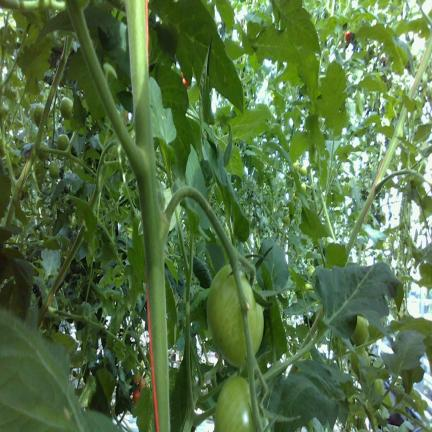6kp_peduncle: (137, 176, 214, 283)
6kp_petiole: (102, 67, 165, 258), (4, 147, 31, 216), (27, 122, 65, 170), (363, 159, 396, 214), (38, 279, 72, 327), (90, 158, 104, 210), (56, 35, 71, 78)
MainStem: (125, 1, 169, 432), (5, 35, 73, 222), (346, 105, 409, 258), (38, 222, 87, 327), (408, 34, 432, 101)
tomato: (207, 265, 263, 365), (215, 376, 253, 431), (350, 347, 370, 375), (352, 316, 369, 345), (60, 97, 73, 119), (33, 103, 44, 126), (38, 142, 49, 161), (57, 134, 69, 150), (49, 161, 60, 178), (374, 379, 384, 394), (133, 389, 140, 403), (133, 371, 141, 383), (305, 283, 314, 293), (345, 30, 352, 42), (139, 377, 145, 390), (300, 166, 307, 176), (308, 265, 315, 275), (293, 160, 299, 171), (301, 182, 306, 192), (293, 194, 299, 201)
